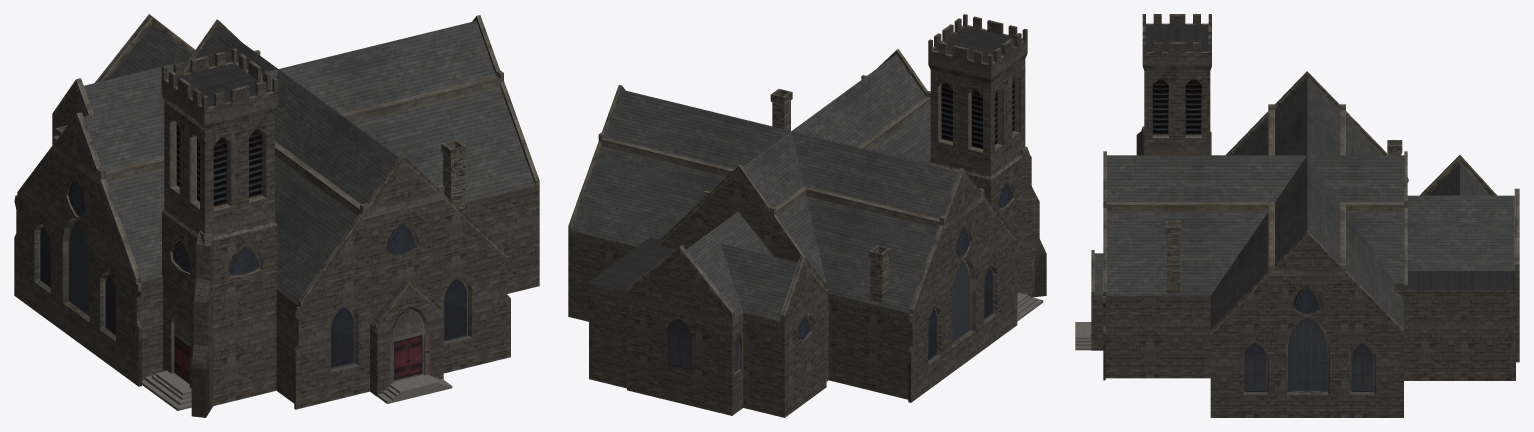
Rendered from iglesia.obj.
3 renders of one model, left to right at view 1: azimuth 30°, elevation 25°; view 2: azimuth 150°, elevation 25°; view 3: azimuth 270°, elevation 25°, orthographic. The views are drawn at different scales.
Visible parts, largest first — view 1: Cube; view 2: Cube; view 3: Cube.
Boxes of the visible parts, x1=… form: Cube: x1=14, y1=14, x2=539, y2=417; Cube: x1=568, y1=14, x2=1046, y2=417; Cube: x1=1075, y1=14, x2=1519, y2=417.
Size of the model in its own units: 2600 by 1913 by 3035.
